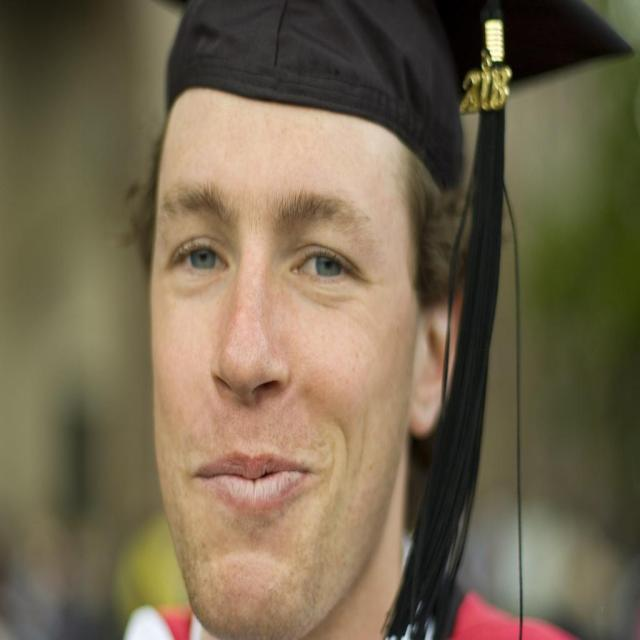no-glass: (162, 244, 354, 282)
